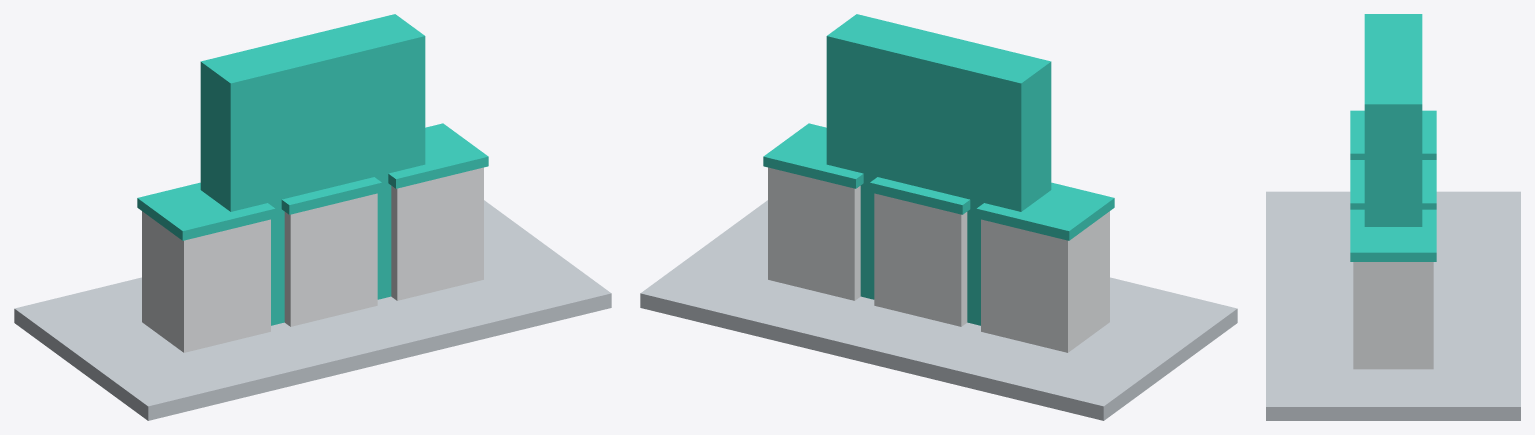
The picture shows the model from 3 angles, left to right: view 1: azimuth 30°, elevation 25°; view 2: azimuth 150°, elevation 25°; view 3: azimuth 270°, elevation 25°; orthographic projection. The views are drawn at different scales.
Parts seen in each view (by area): view 1: Exhibition Booth Concept; view 2: Exhibition Booth Concept; view 3: Exhibition Booth Concept.
Boxes of the visible parts, <box> form: Exhibition Booth Concept: <box>14,14,611,420</box>; Exhibition Booth Concept: <box>640,14,1237,420</box>; Exhibition Booth Concept: <box>1266,14,1520,420</box>.
Bounding box in the file's own units: 4 × 2.2 × 2.
